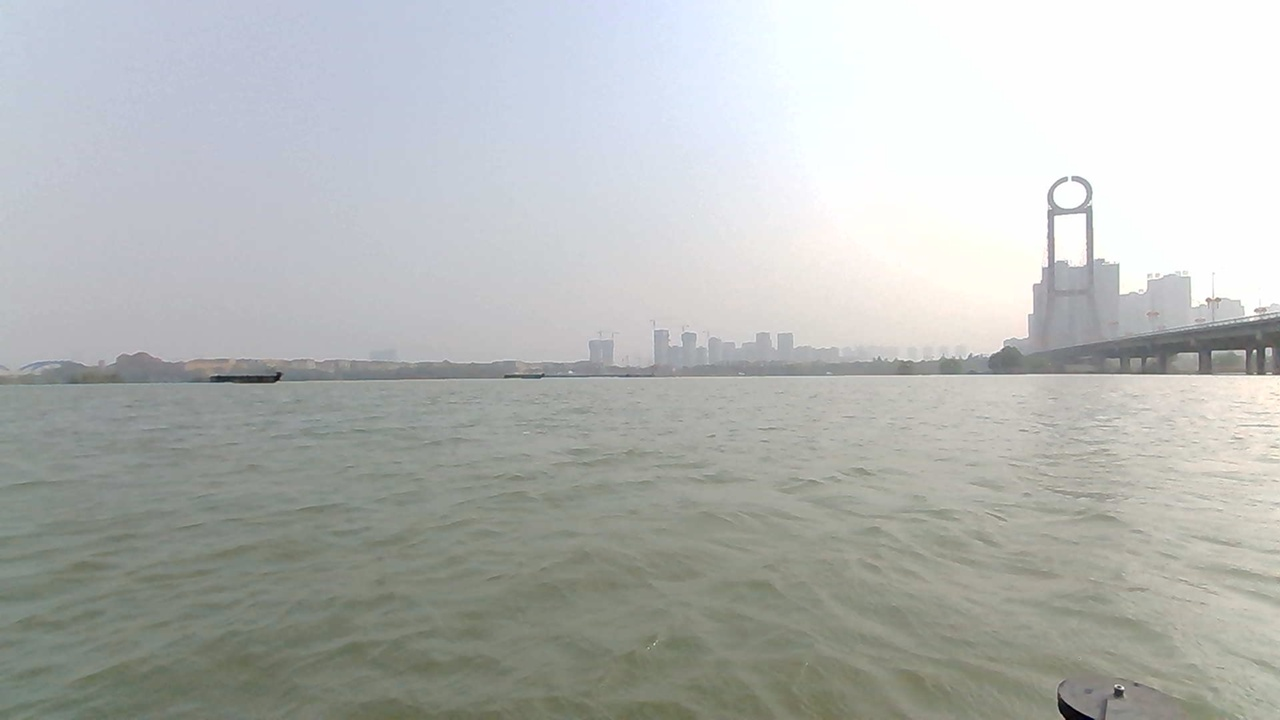bottle: (514, 419, 550, 438)
